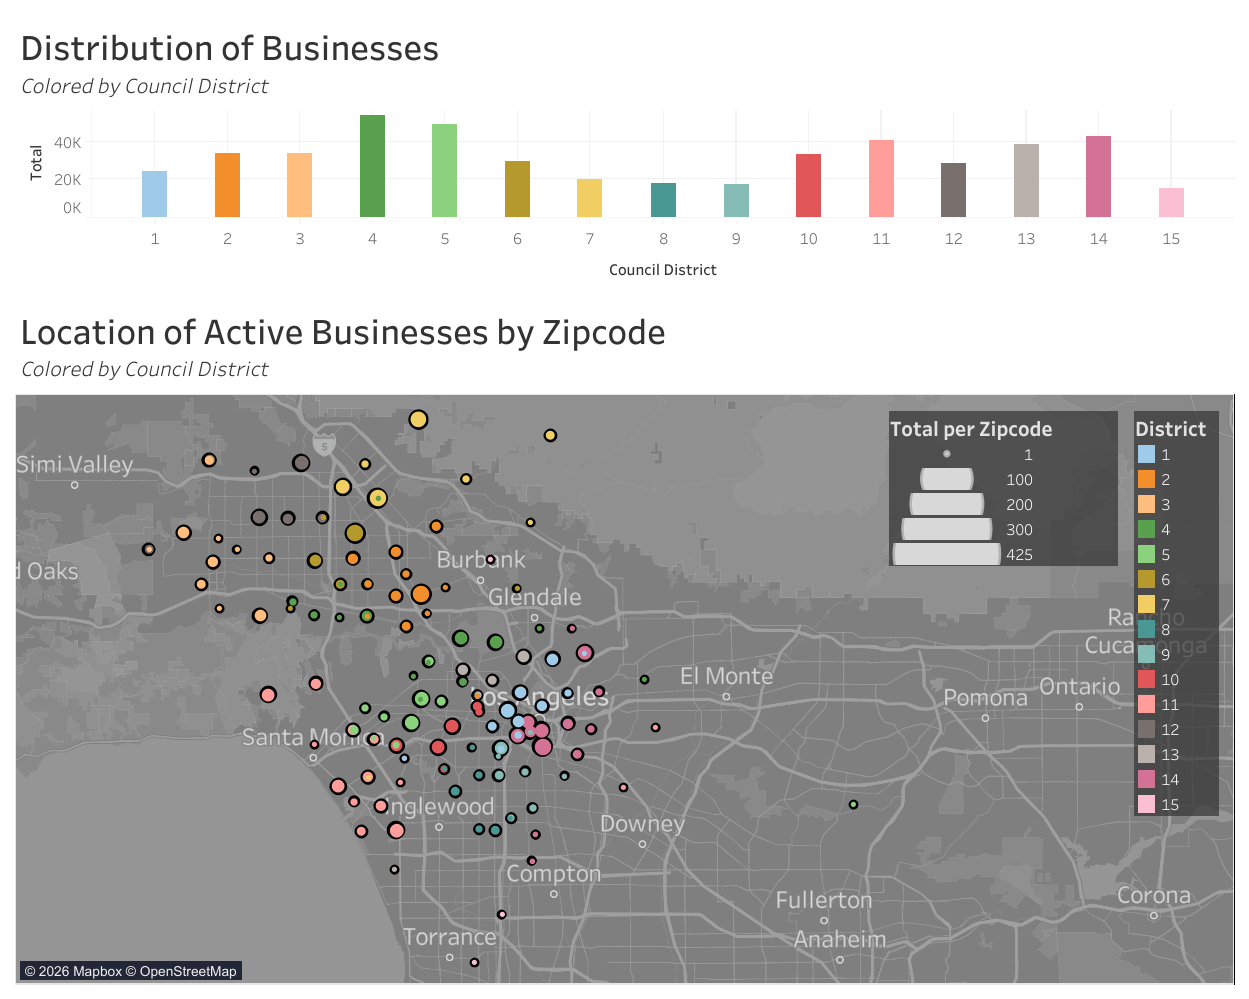

This screenshot's page, from the dashboard's own definition file:
{"tool":"tableau","page":{"name":"Active Businesses per Council District","canvas":[1000,800],"ordinal":0},"visuals":[{"type":"worksheet","title":"Total Business Distribution","mark":"Bar","rows":["__id"],"cols":["council_district"],"box":[8,8,984,227]},{"type":"worksheet","title":"Location of Businesses","mark":"Automatic","box":[8,235,984,557]},{"type":"legend","title":"Location of Businesses","param":"[odata.0vzqavn0xyjd1q1dev61p14z7lbr].[cnt:zip_code:qk]","box":[711,329,183,126]},{"type":"legend","title":"Location of Businesses","param":"[odata.0vzqavn0xyjd1q1dev61p14z7lbr].[none:council_district:ok]","box":[907,329,68,330]}]}

Visuals, with their boxes in screenshot pixels (x1, y1, x2, y2), scaled from the page's 1000x800 canvas onto the 1249x999 screenshot:
"Total Business Distribution" worksheet (Bar marks): pyautogui.locateOnScreen(10, 10, 1239, 293)
"Location of Businesses" worksheet: pyautogui.locateOnScreen(10, 293, 1239, 989)
"Location of Businesses" legend: pyautogui.locateOnScreen(888, 411, 1117, 568)
"Location of Businesses" legend: pyautogui.locateOnScreen(1133, 411, 1218, 823)
